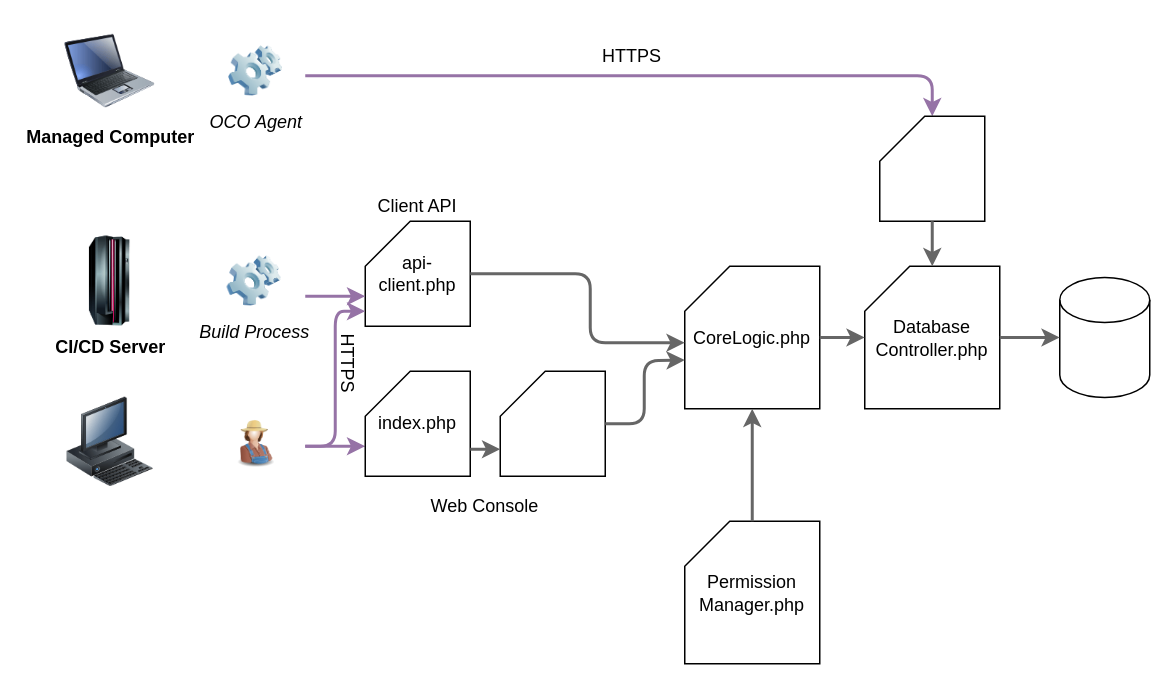
This 1176x690 diagram has some shape labels left out. The box of each missing label's shape, as (x1, y1, x2, y2) in pixels:
Administrator: (230, 412, 280, 472)
api-agent.php: (878, 115, 985, 221)
Management PC: (64, 397, 154, 487)
MySQL/ MariaDB: (1058, 276, 1150, 398)
views/* ajax-handler/*: (499, 370, 605, 476)
